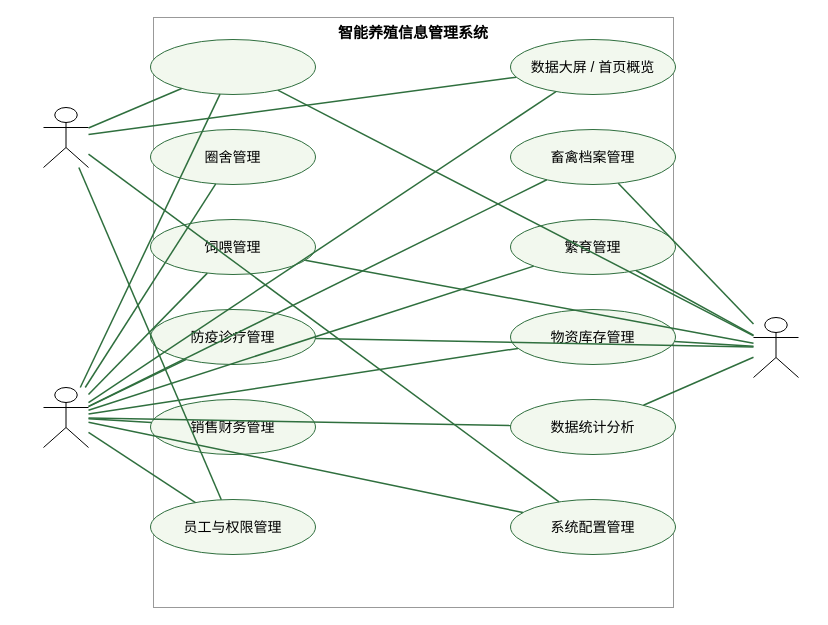
The diagram is 828 pixels wide and 625 high, and some of its shapes have lost their labels. The shapes that lost their labels are listed below. From the top down, each one's centre as x and y in pixels, then its label:
(233,66): 登录 / 注册
(65,137): 超级管理员
(775,347): 养殖场员工
(65,417): 养殖场主管理员
